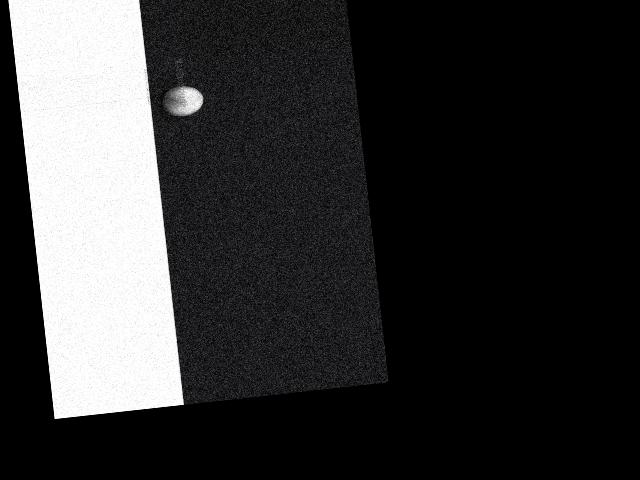egg: (160, 84, 205, 118)
